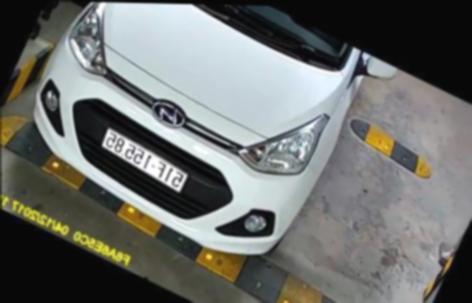License_Plate: (93, 126, 193, 197)
